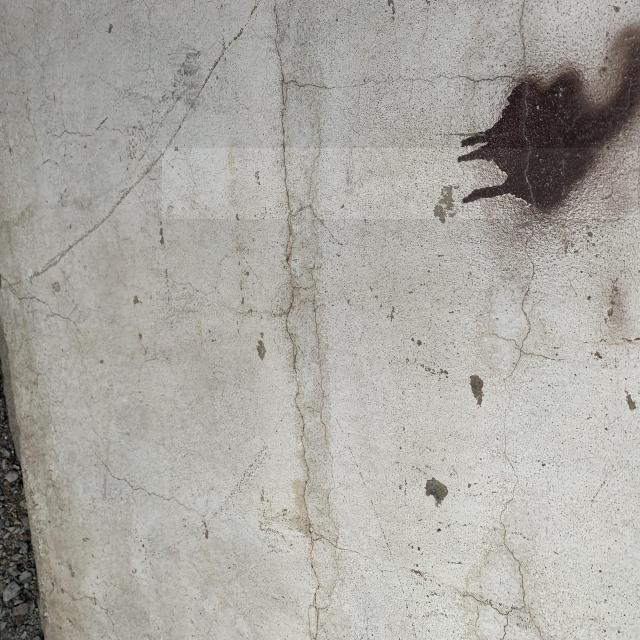diagonal crack: (7, 0, 260, 290), (59, 423, 205, 517)
horizontal crack: (283, 56, 530, 108)
multi-branched crack: (0, 0, 639, 640)
vertical crack: (260, 1, 335, 640), (500, 1, 557, 640)
